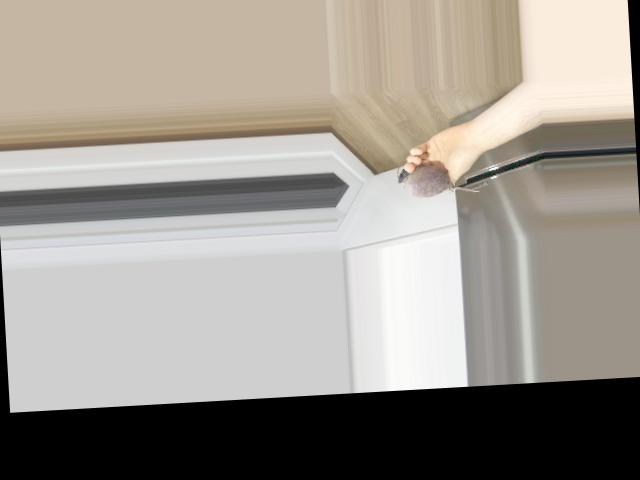beet: (395, 162, 479, 198)
